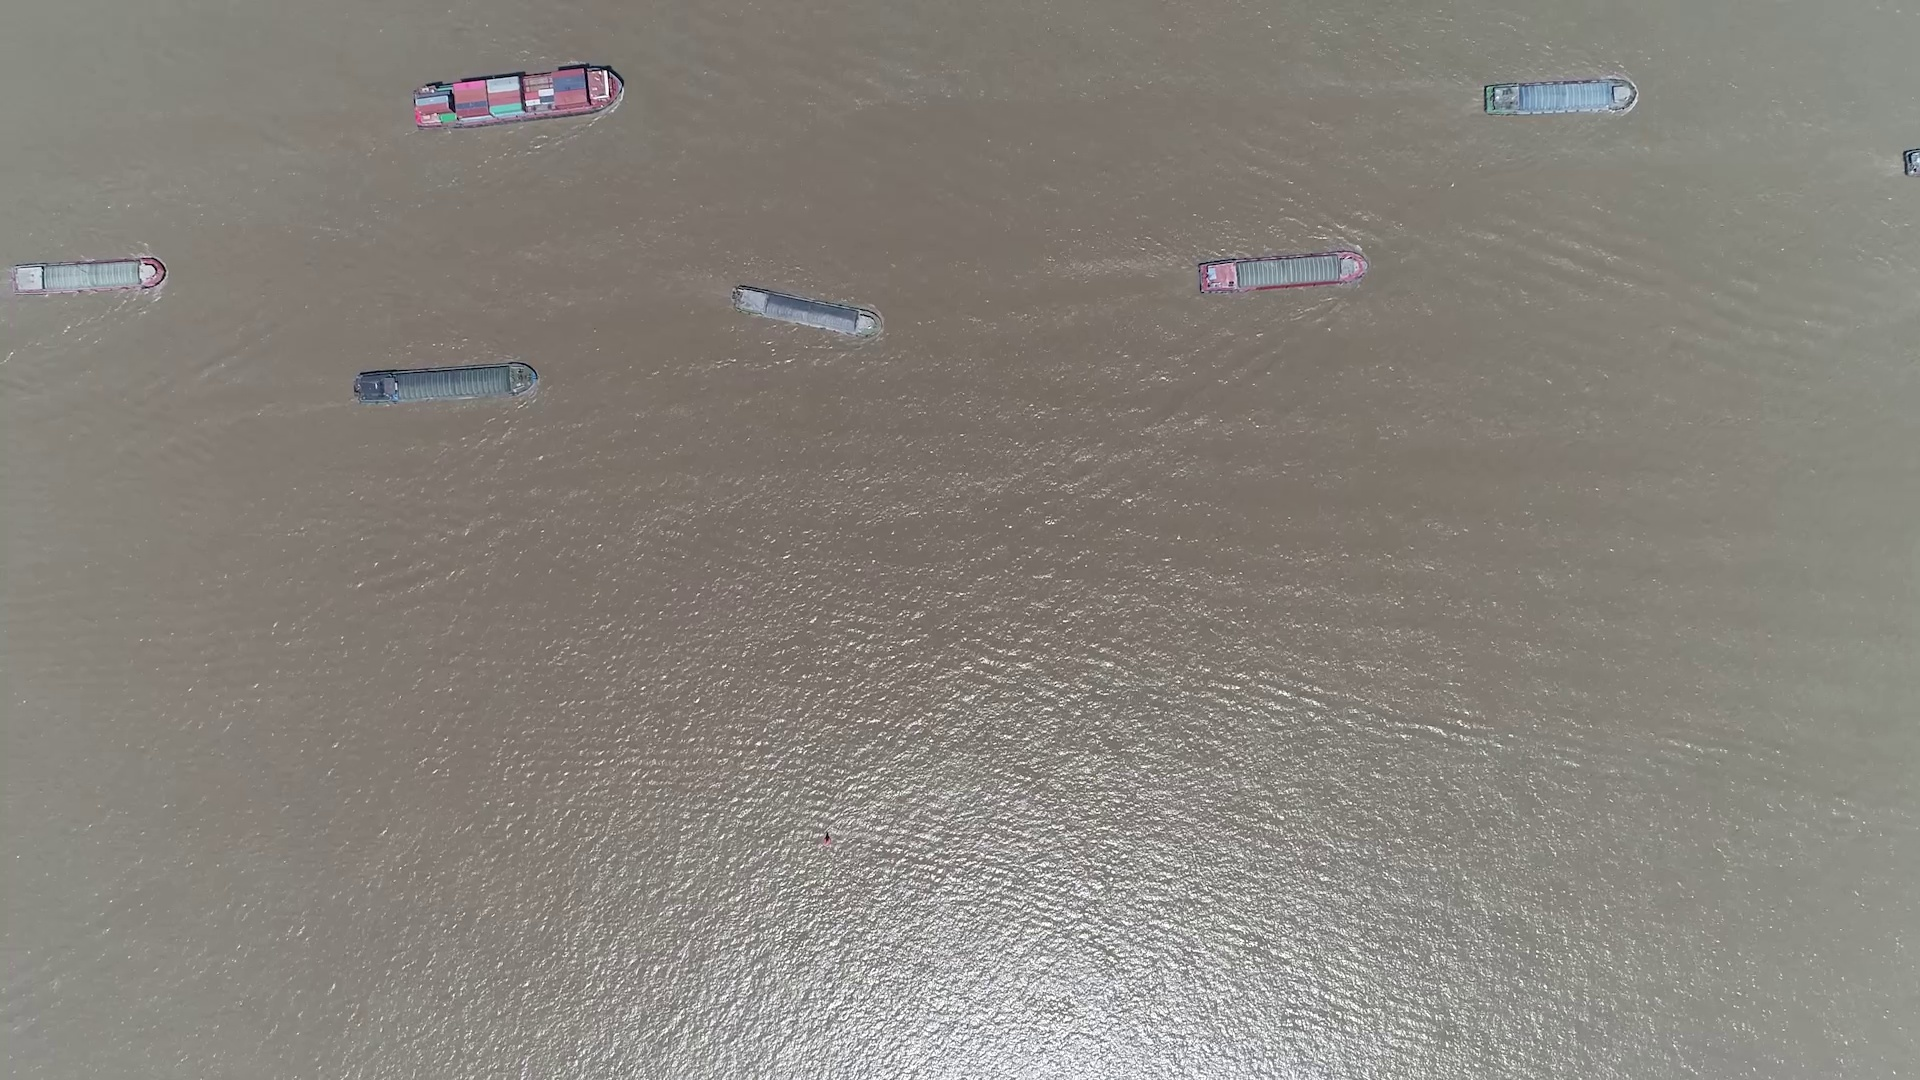ship: (411, 67, 624, 127), (728, 284, 881, 338), (355, 363, 537, 405), (1197, 251, 1369, 294), (9, 258, 165, 293), (1484, 80, 1636, 115)
